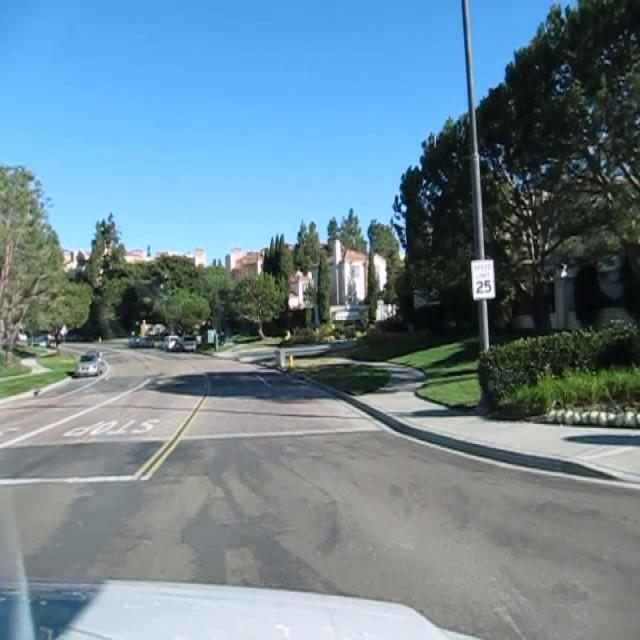speedLimit25: (470, 257, 495, 300)
